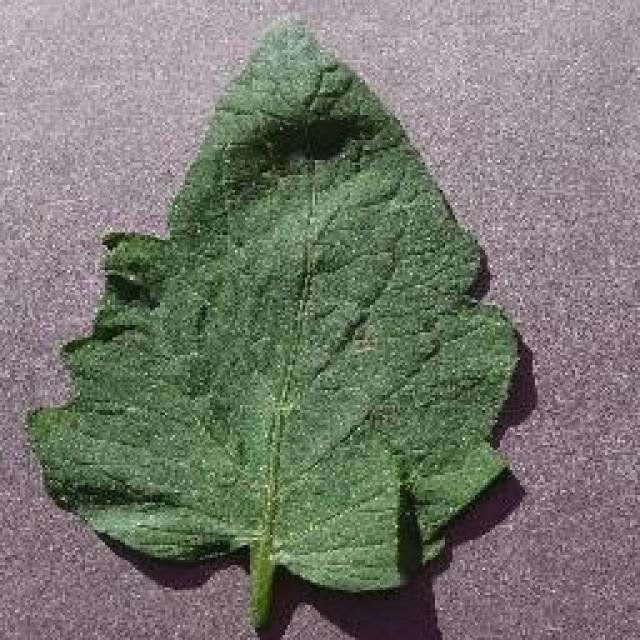Tomato Septoria spot leaf: (24, 10, 524, 595)
